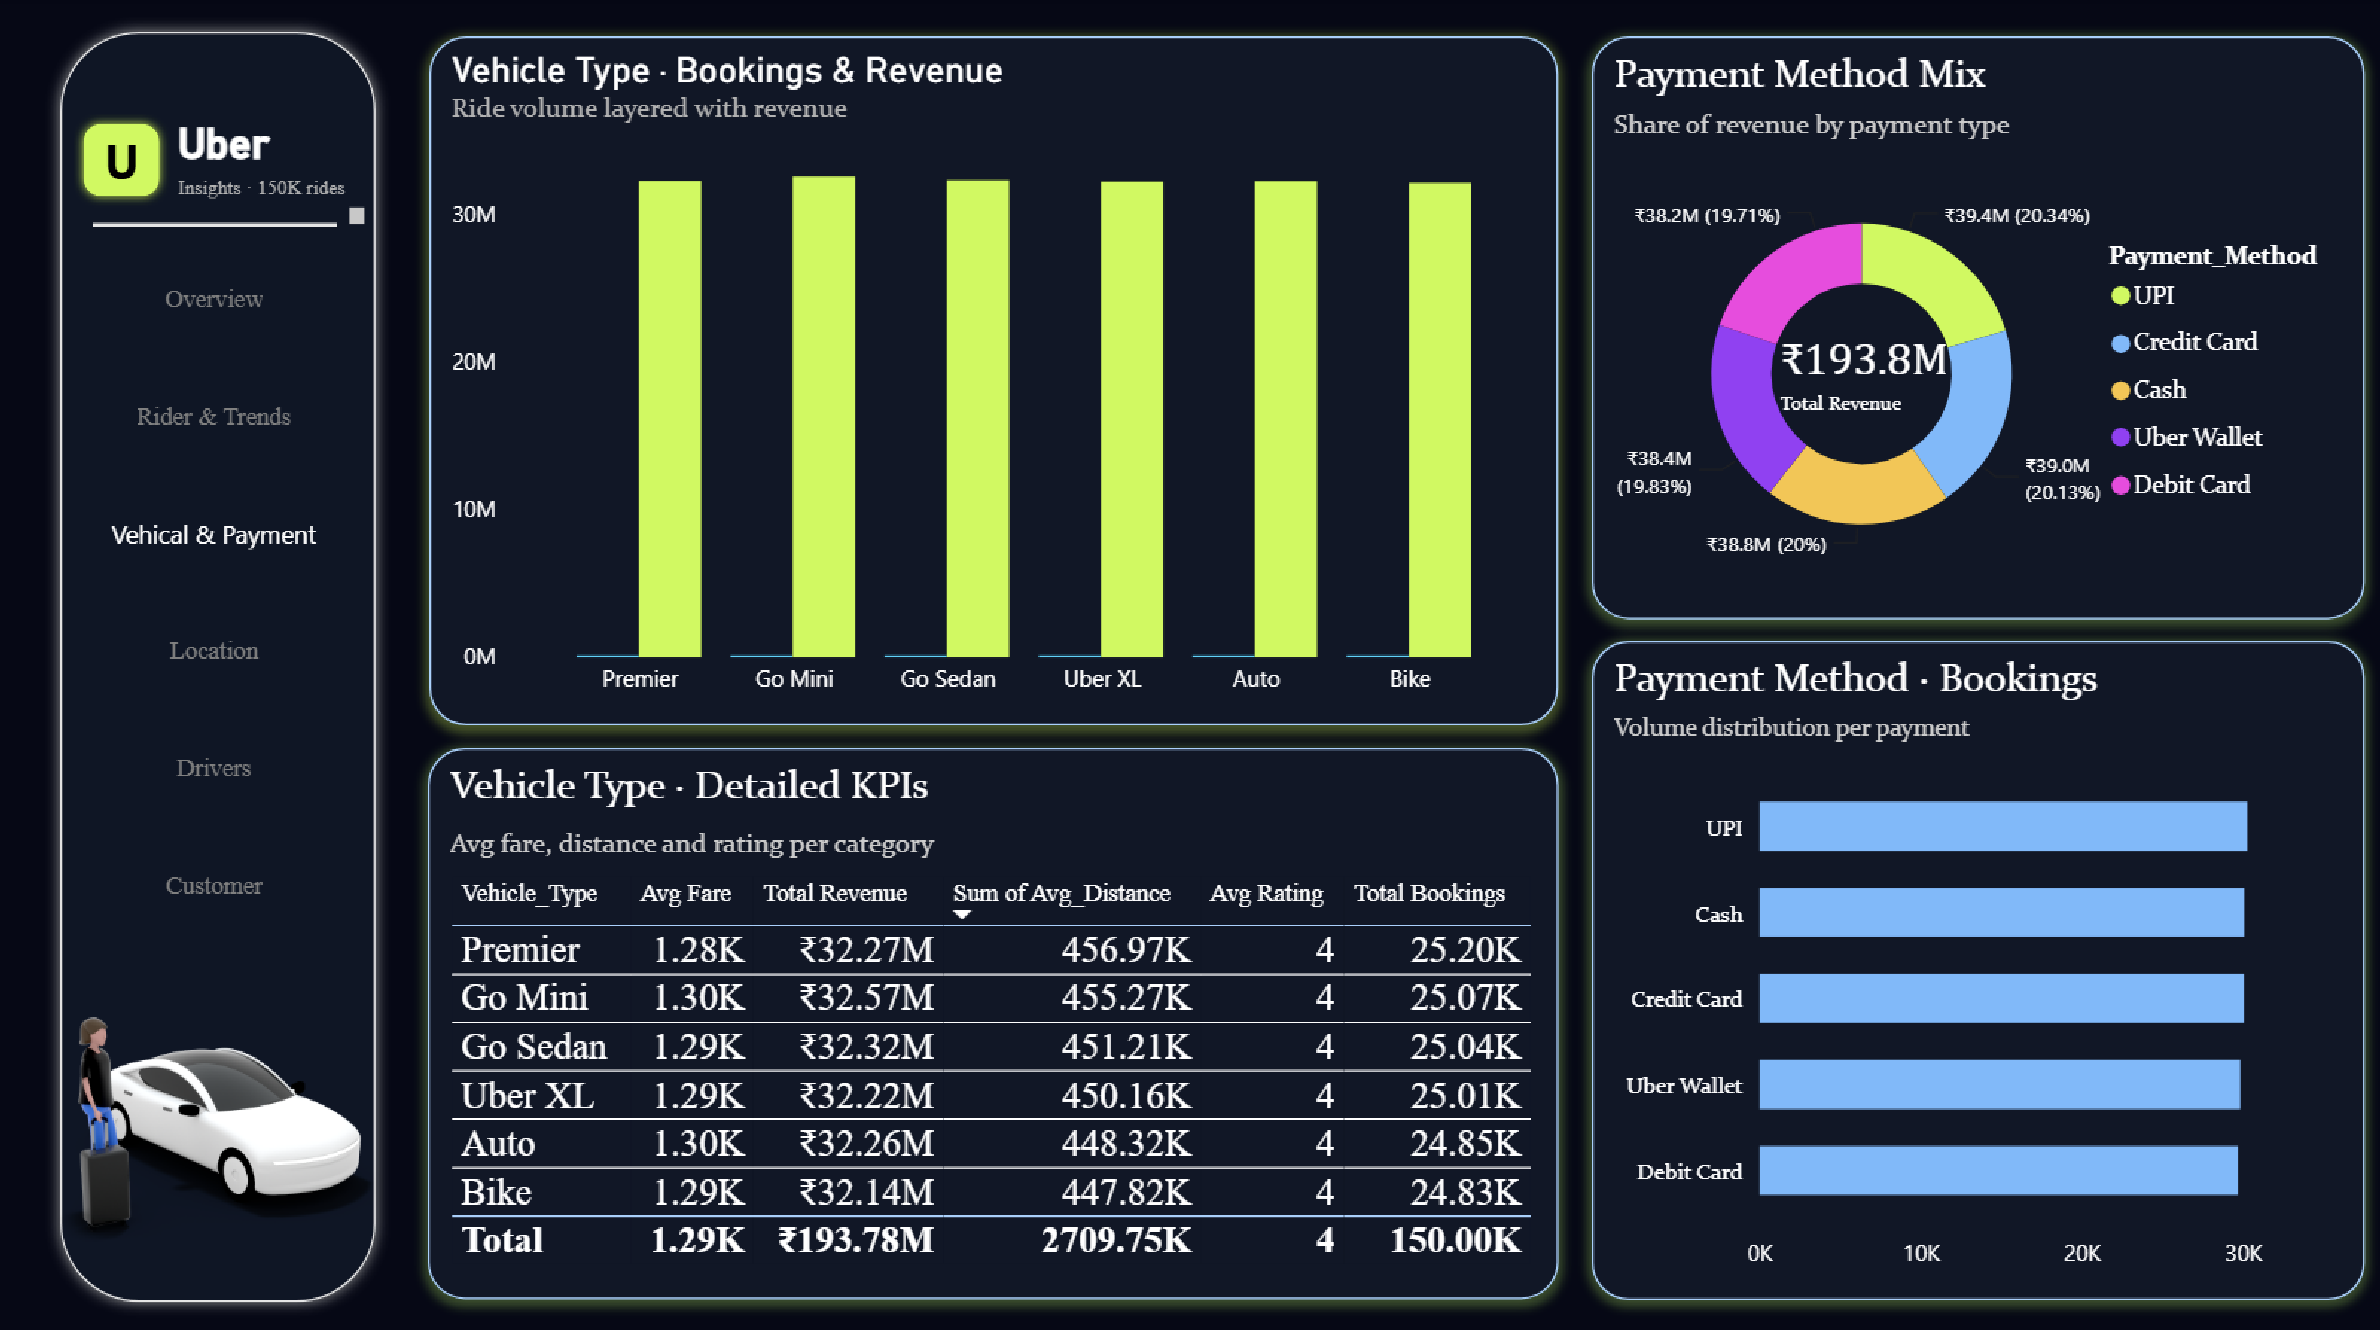

The page's visual inventory and layout, read from the dashboard file:
{"tool":"powerbi","page":{"name":"Vehical & Payment","canvas":[1280,720],"ordinal":2},"visuals":[{"type":"pageNavigator","box":[37.3,173.6,130,371.8],"z":0},{"type":"shape","box":[25.7,11.5,185.3,697.8],"z":1000},{"type":"shape","box":[40.4,63,51.6,49.6],"z":2000},{"type":"textbox","title":"Uber","box":[92.2,66.5,110,61.2],"z":3000},{"type":"pageNavigator","box":[51.3,135.7,130.2,372.3],"z":4000},{"type":"shape","box":[51.3,112.4,131.2,20.4],"z":5000},{"type":"donutChart","title":"Payment Method Mix","fields":{"Category":["Booking_Transactions.Payment_Method"],"Y":["Measure.Total Revenue (Cr)"]},"box":[855.8,21.6,414.8,313.4],"z":6000},{"type":"image","box":[13,498,218,202],"z":7000},{"type":"tableEx","title":"Vehicle Type · Detailed KPIs","fields":{"Values":["Booking_Transactions.Vehicle_Type","Booking_Transactions.Avg Fare","Measure.Total Revenue (Cr)","Sum(Booking_Transactions.Avg_Distance)","Measure.Avg Rating","Measure.Total Bookings"]},"box":[230.9,403.6,607.3,296.5],"z":8000},{"type":"clusteredBarChart","title":"Payment Method · Bookings","fields":{"Category":["Booking_Transactions.Payment_Method"],"Y":["Measure.Total Bookings"]},"box":[855.8,346,414.7,354],"z":9000},{"type":"clusteredColumnChart","title":"Vehicle Type · Bookings & Revenue","fields":{"Y":["Measure.Total Bookings","Measure.Total Revenue (Cr)"],"Category":["Booking_Transactions.Vehicle_Type"]},"box":[231.9,21.9,606.2,370.3],"z":10000},{"type":"cardVisual","fields":{"Data":["Measure.Total Revenue (Cr)"]},"box":[938.4,152,166.1,106],"z":11000}]}

Visuals, with their boxes in screenshot pixels (x1, y1, x2, y2), scaled from the page's 1280x720 canvas onto the 2380x1330 screenshot:
pageNavigator: bbox=[69, 321, 311, 1007]
shape: bbox=[48, 21, 392, 1310]
shape: bbox=[75, 116, 171, 208]
"Uber" textbox: bbox=[171, 123, 376, 236]
pageNavigator: bbox=[95, 251, 337, 938]
shape: bbox=[95, 208, 339, 245]
"Payment Method Mix" donutChart: bbox=[1591, 40, 2363, 619]
image: bbox=[24, 920, 430, 1293]
"Vehicle Type · Detailed KPIs" tableEx: bbox=[429, 746, 1559, 1293]
"Payment Method · Bookings" clusteredBarChart: bbox=[1591, 639, 2362, 1293]
"Vehicle Type · Bookings & Revenue" clusteredColumnChart: bbox=[431, 40, 1558, 724]
cardVisual - Measure.Total Revenue (Cr): bbox=[1745, 281, 2054, 477]
